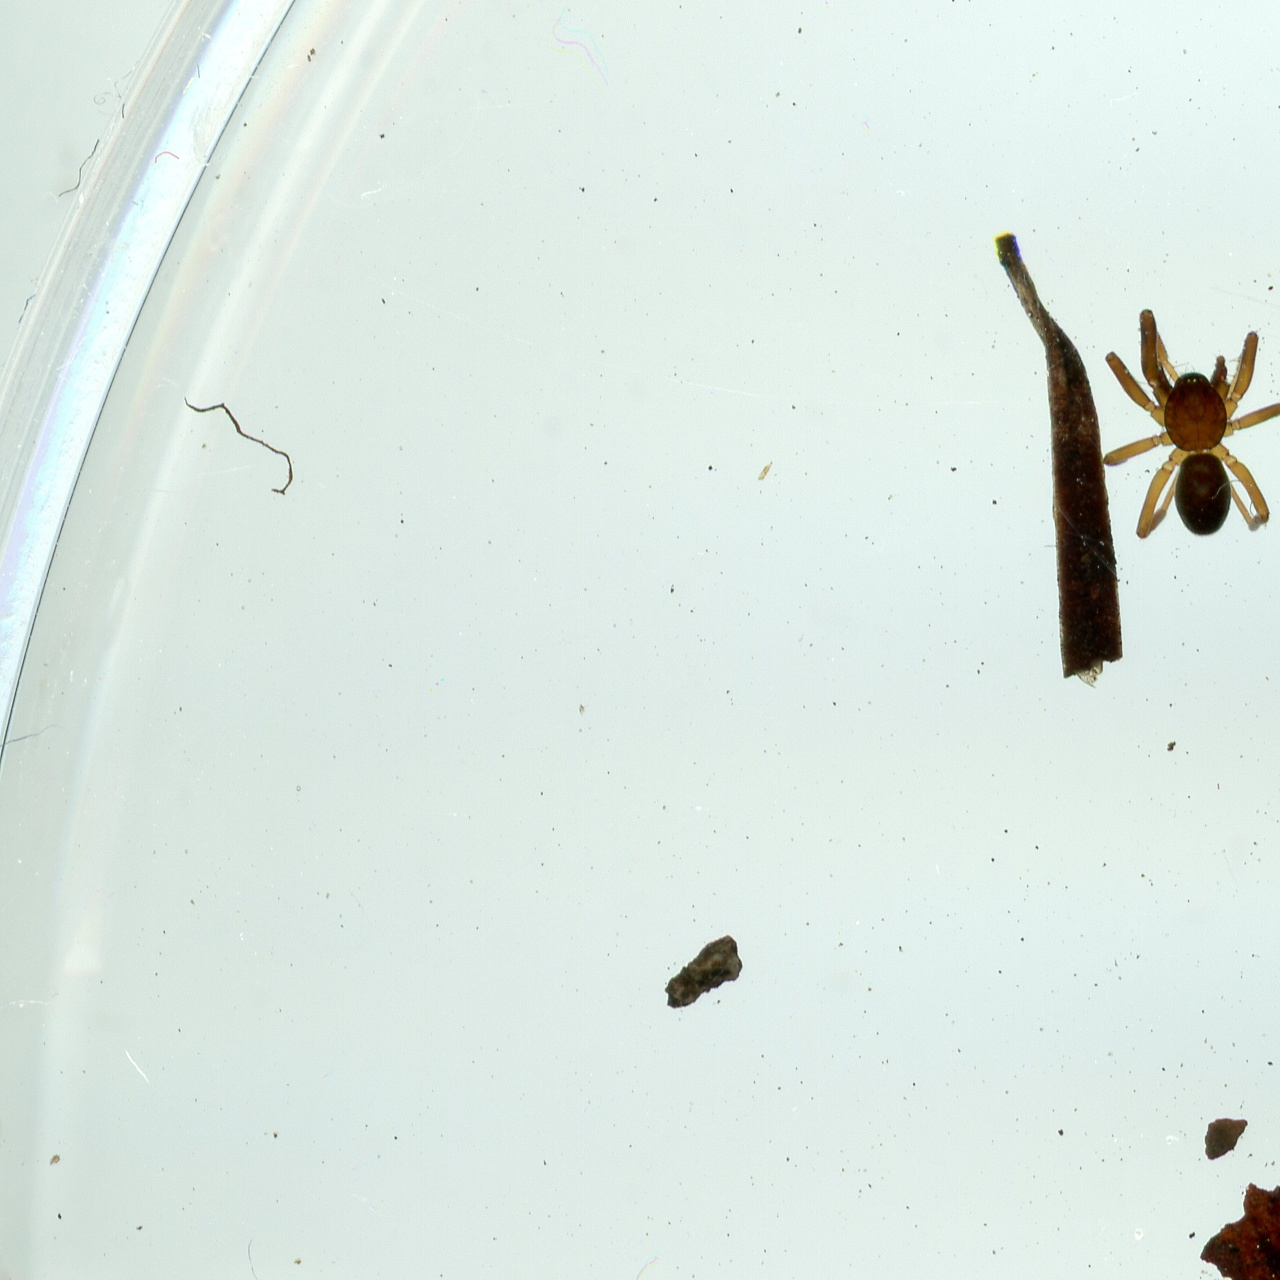arthropod: (1099, 305, 1280, 545)
